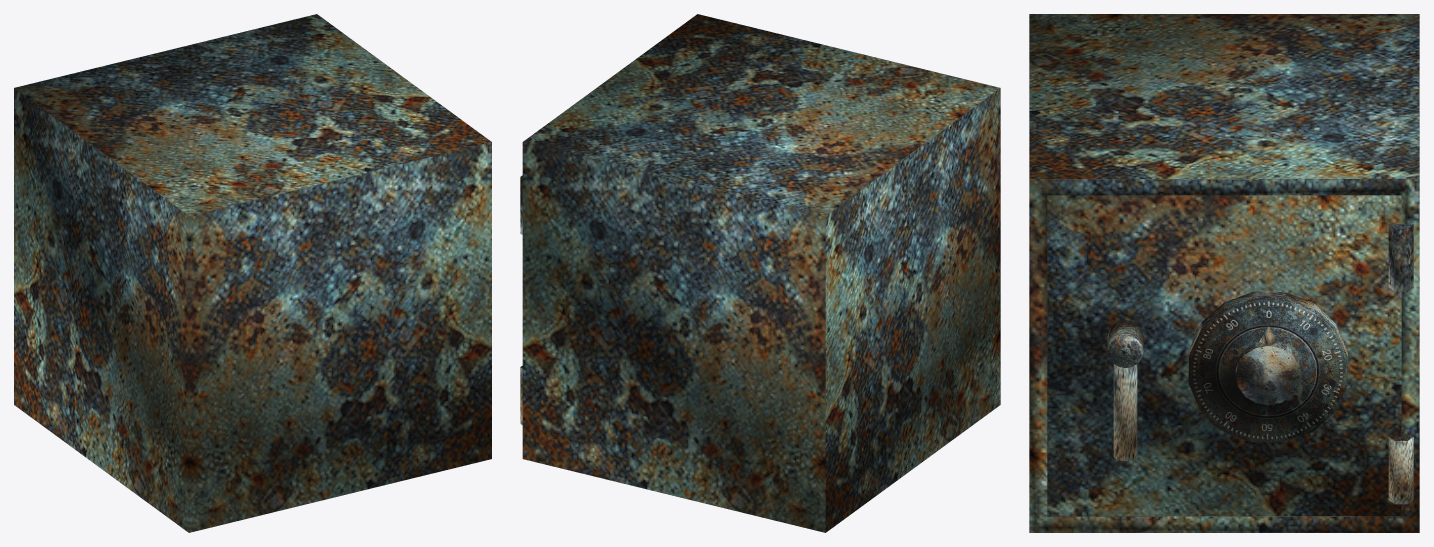
Rendered from Caja Fuerte.fbx.
3 views of the same model, side by side, from view 1: azimuth 30°, elevation 25°; view 2: azimuth 150°, elevation 25°; view 3: azimuth 270°, elevation 25° (orthographic). The views are drawn at different scales.
Visible parts, largest first — view 1: Cube.002; view 2: Cube.002; view 3: Cube.003, Cube.002, Cylinder, Cylinder.003, Cylinder.002, Cylinder.004.
Boxes of the visible parts, x1,y1,x2,y2 form: Cube.002: (14,14,491,532); Cube.002: (522,14,1000,532); Cube.003: (1047,195,1413,516); Cube.002: (1029,14,1419,532); Cylinder: (1188,291,1347,442); Cylinder.003: (1235,342,1300,405); Cylinder.002: (1113,364,1137,461); Cylinder.004: (1107,320,1143,367).
Bounding box in the file's own units: 219 × 200 × 200.
2 materials, 2 textured.
